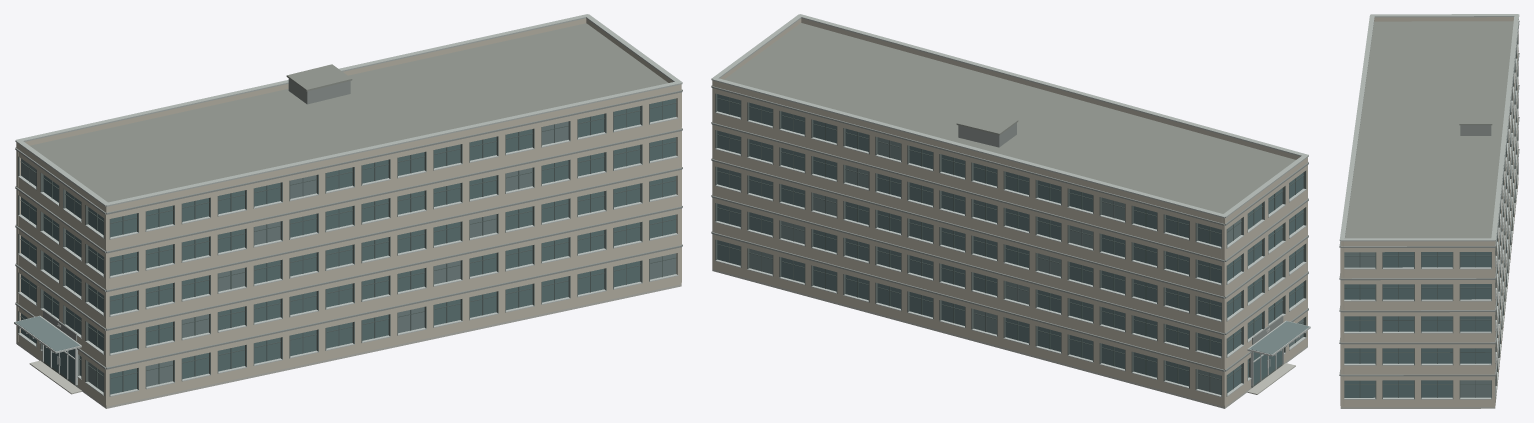
File: mapped_1135360061.glb
3 renders of one model, left to right at view 1: azimuth 30°, elevation 25°; view 2: azimuth 150°, elevation 25°; view 3: azimuth 270°, elevation 25°, orthographic. The views are drawn at different scales.
Visible parts, largest first — view 1: mapped_1135360061_HousingWarm, mapped_1135360061_FacultyRoof, mapped_1135360061_WindowGlass, mapped_1135360061_FacultyDarkPanel, mapped_1135360061_WindowAluminium, mapped_1135360061_WindowReveal, mapped_1135360061_WindowGlassLight, mapped_1135360061_WindowRubber, mapped_1135360061_Teaching5TileJoint, mapped_1135360061_EntryStone; view 2: mapped_1135360061_HousingWarm, mapped_1135360061_FacultyRoof, mapped_1135360061_WindowGlass, mapped_1135360061_FacultyDarkPanel, mapped_1135360061_WindowReveal, mapped_1135360061_WindowAluminium, mapped_1135360061_WindowGlassLight, mapped_1135360061_WindowRubber, mapped_1135360061_Teaching5TileJoint, mapped_1135360061_EntryStone; view 3: mapped_1135360061_FacultyRoof, mapped_1135360061_HousingWarm, mapped_1135360061_WindowGlass, mapped_1135360061_FacultyDarkPanel, mapped_1135360061_Teaching5TileJoint, mapped_1135360061_WindowAluminium, mapped_1135360061_WindowReveal, mapped_1135360061_WindowRubber, mapped_1135360061_WindowGlassLight, mapped_1135360061_EntryStone.
Part boxes in pixels (x1=…): mapped_1135360061_HousingWarm: x1=16, y1=18, x2=681, y2=406; mapped_1135360061_FacultyRoof: x1=30, y1=23, x2=667, y2=202; mapped_1135360061_WindowGlass: x1=21, y1=98, x2=676, y2=394; mapped_1135360061_FacultyDarkPanel: x1=15, y1=78, x2=682, y2=369; mapped_1135360061_WindowAluminium: x1=14, y1=117, x2=678, y2=396; mapped_1135360061_WindowReveal: x1=18, y1=98, x2=677, y2=396; mapped_1135360061_WindowGlassLight: x1=15, y1=121, x2=676, y2=392; mapped_1135360061_WindowRubber: x1=20, y1=101, x2=676, y2=391; mapped_1135360061_Teaching5TileJoint: x1=15, y1=14, x2=682, y2=206; mapped_1135360061_EntryStone: x1=16, y1=284, x2=681, y2=408; mapped_1135360061_HousingWarm: x1=712, y1=18, x2=1307, y2=406; mapped_1135360061_FacultyRoof: x1=724, y1=23, x2=1295, y2=213; mapped_1135360061_WindowGlass: x1=717, y1=94, x2=1303, y2=392; mapped_1135360061_FacultyDarkPanel: x1=711, y1=85, x2=1308, y2=371; mapped_1135360061_WindowReveal: x1=715, y1=93, x2=1306, y2=396; mapped_1135360061_WindowAluminium: x1=715, y1=111, x2=1310, y2=397; mapped_1135360061_WindowGlassLight: x1=749, y1=137, x2=1309, y2=394; mapped_1135360061_WindowRubber: x1=717, y1=97, x2=1303, y2=392; mapped_1135360061_Teaching5TileJoint: x1=711, y1=14, x2=1308, y2=218; mapped_1135360061_EntryStone: x1=712, y1=269, x2=1307, y2=408; mapped_1135360061_FacultyRoof: x1=1345, y1=21, x2=1513, y2=238; mapped_1135360061_HousingWarm: x1=1340, y1=17, x2=1518, y2=407; mapped_1135360061_WindowGlass: x1=1344, y1=252, x2=1491, y2=397; mapped_1135360061_FacultyDarkPanel: x1=1339, y1=20, x2=1519, y2=376; mapped_1135360061_Teaching5TileJoint: x1=1339, y1=14, x2=1519, y2=241; mapped_1135360061_WindowAluminium: x1=1344, y1=44, x2=1518, y2=399; mapped_1135360061_WindowReveal: x1=1375, y1=35, x2=1518, y2=399; mapped_1135360061_WindowRubber: x1=1344, y1=252, x2=1491, y2=397; mapped_1135360061_WindowGlassLight: x1=1344, y1=252, x2=1491, y2=397; mapped_1135360061_EntryStone: x1=1340, y1=184, x2=1518, y2=408.
Bounding box in the file's own units: 54.12 × 19.28 × 17.39.
